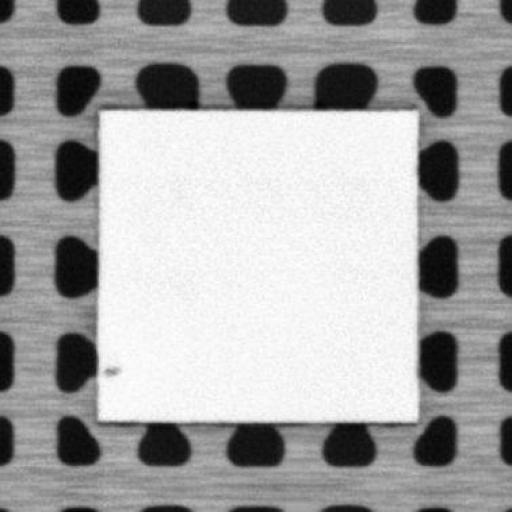DIE_INK: (99, 362, 119, 377)
